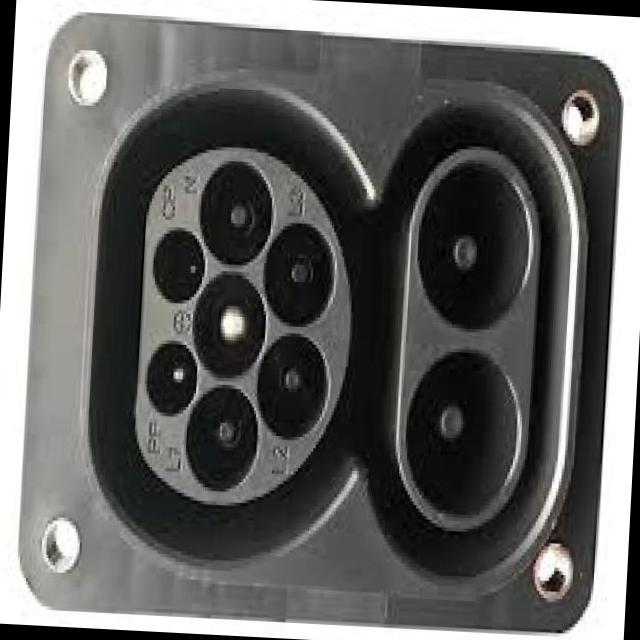inlet: (135, 147, 351, 503)
inlet-above-left: (145, 340, 197, 417)
inlet-above-right: (153, 227, 206, 302)
inlet-below-left: (257, 335, 328, 441)
inlet-below-right: (264, 223, 335, 327)
inlet-center: (192, 272, 267, 378)
inlet-center-left: (186, 384, 259, 492)
inlet-center-right: (199, 161, 273, 264)
